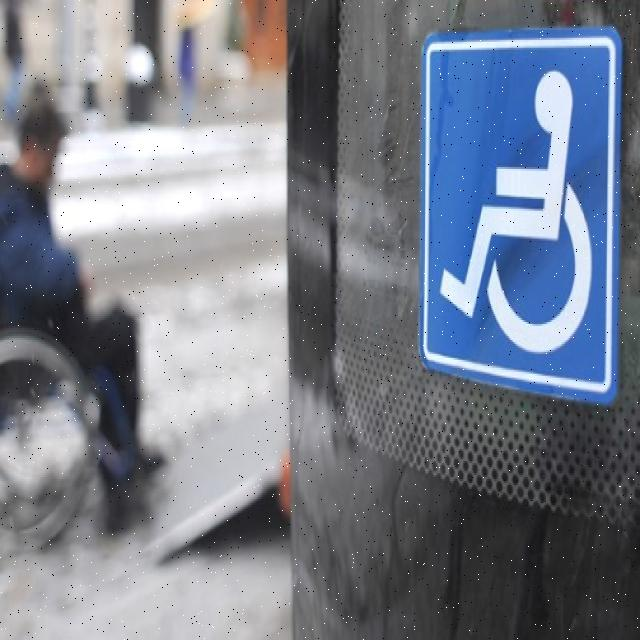symbol_of_access: (416, 22, 624, 408)
